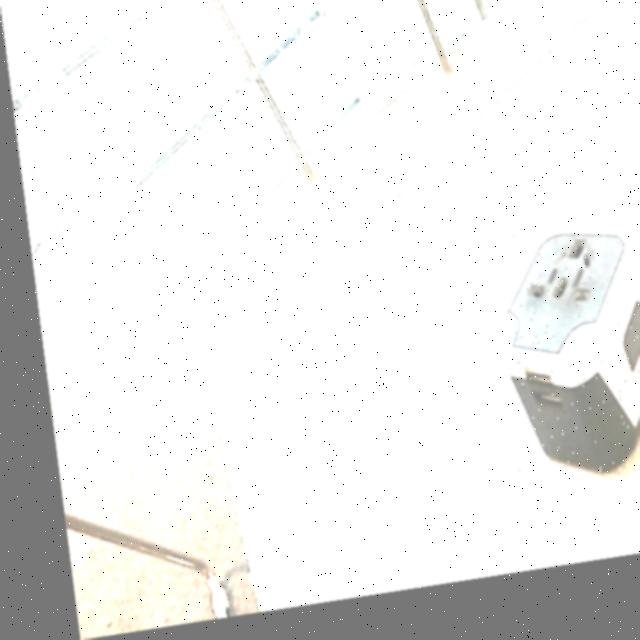adapter: (473, 231, 640, 502)
